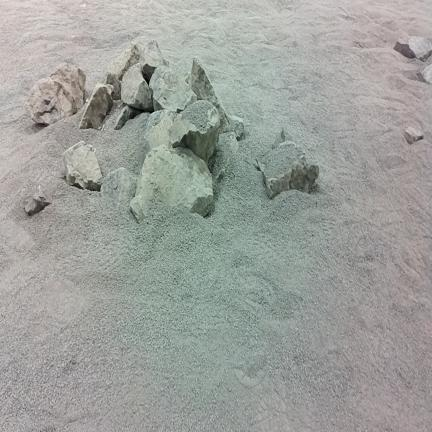Rock: (131, 146, 213, 222), (27, 63, 85, 124), (257, 142, 319, 198), (173, 100, 219, 163), (191, 58, 230, 132), (149, 66, 197, 112), (63, 141, 102, 191), (209, 132, 238, 185), (80, 83, 113, 129), (121, 64, 153, 111), (144, 110, 178, 153), (108, 42, 144, 80), (101, 168, 136, 204), (140, 40, 168, 82), (394, 37, 431, 61), (25, 185, 51, 215), (115, 106, 142, 129), (105, 73, 121, 100), (228, 116, 245, 139), (404, 127, 423, 144), (280, 125, 293, 142), (421, 65, 431, 83)
